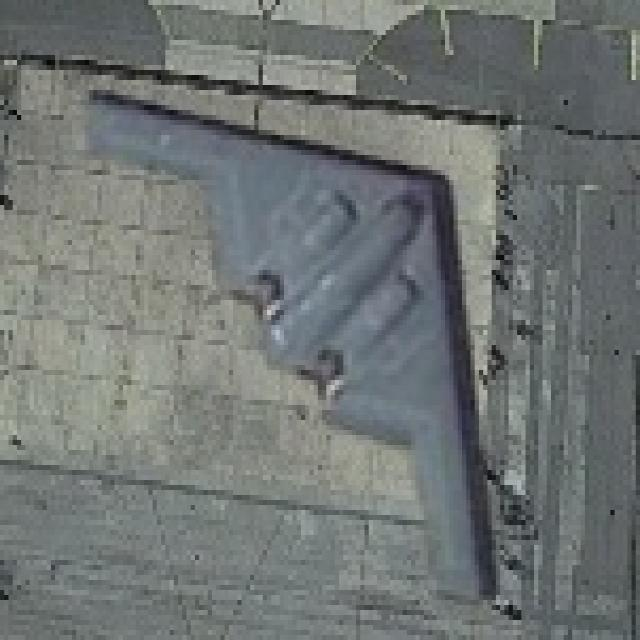B-2_TopDown: (76, 75, 509, 605)
